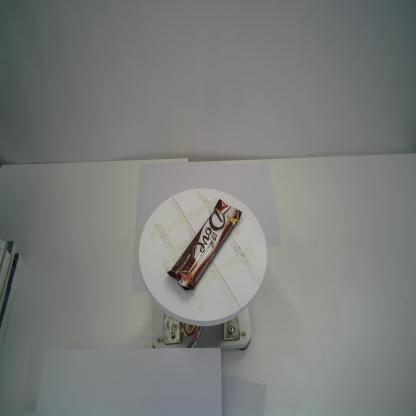Chocolate: (166, 197, 244, 291)
